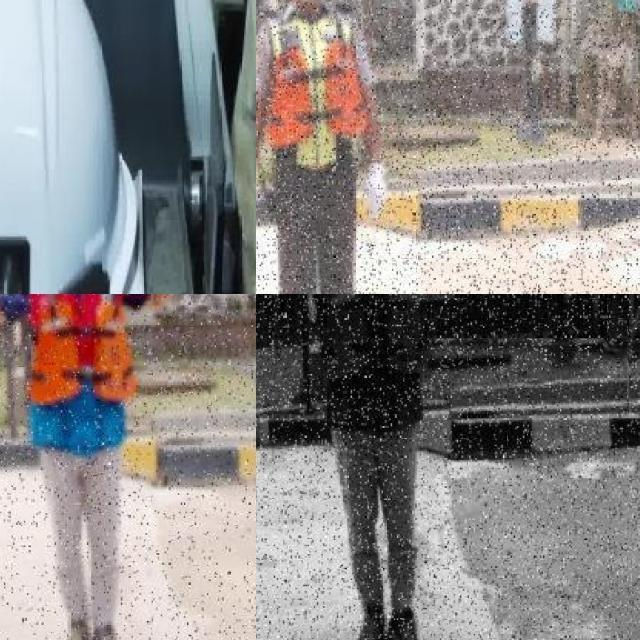apron: (362, 160, 386, 223)
